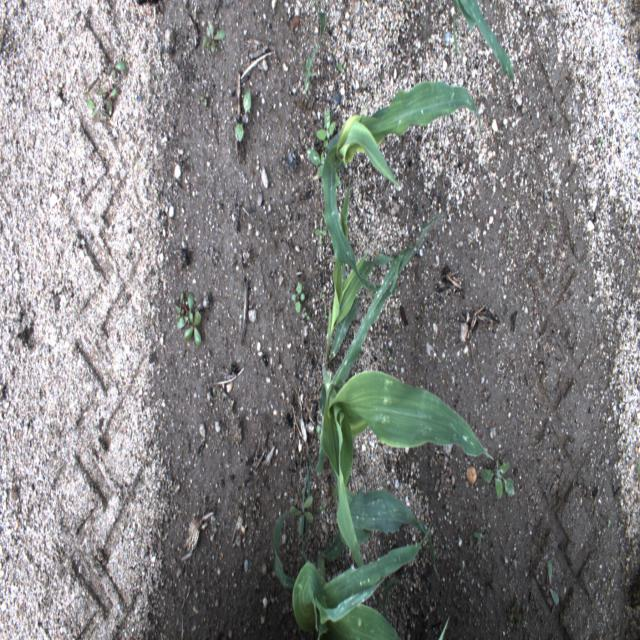crop: (318, 214, 492, 580), (314, 81, 484, 291), (268, 511, 449, 637), (450, 0, 518, 92)
weed: (309, 105, 340, 183), (172, 285, 210, 348), (287, 468, 316, 536), (478, 457, 523, 499), (198, 16, 228, 63), (84, 82, 117, 123), (300, 38, 321, 98), (233, 88, 253, 147), (542, 558, 564, 609), (310, 0, 330, 44), (104, 56, 127, 89), (289, 281, 306, 319), (469, 523, 488, 555), (332, 52, 352, 80), (198, 86, 213, 120), (310, 223, 328, 242), (594, 136, 608, 158)
